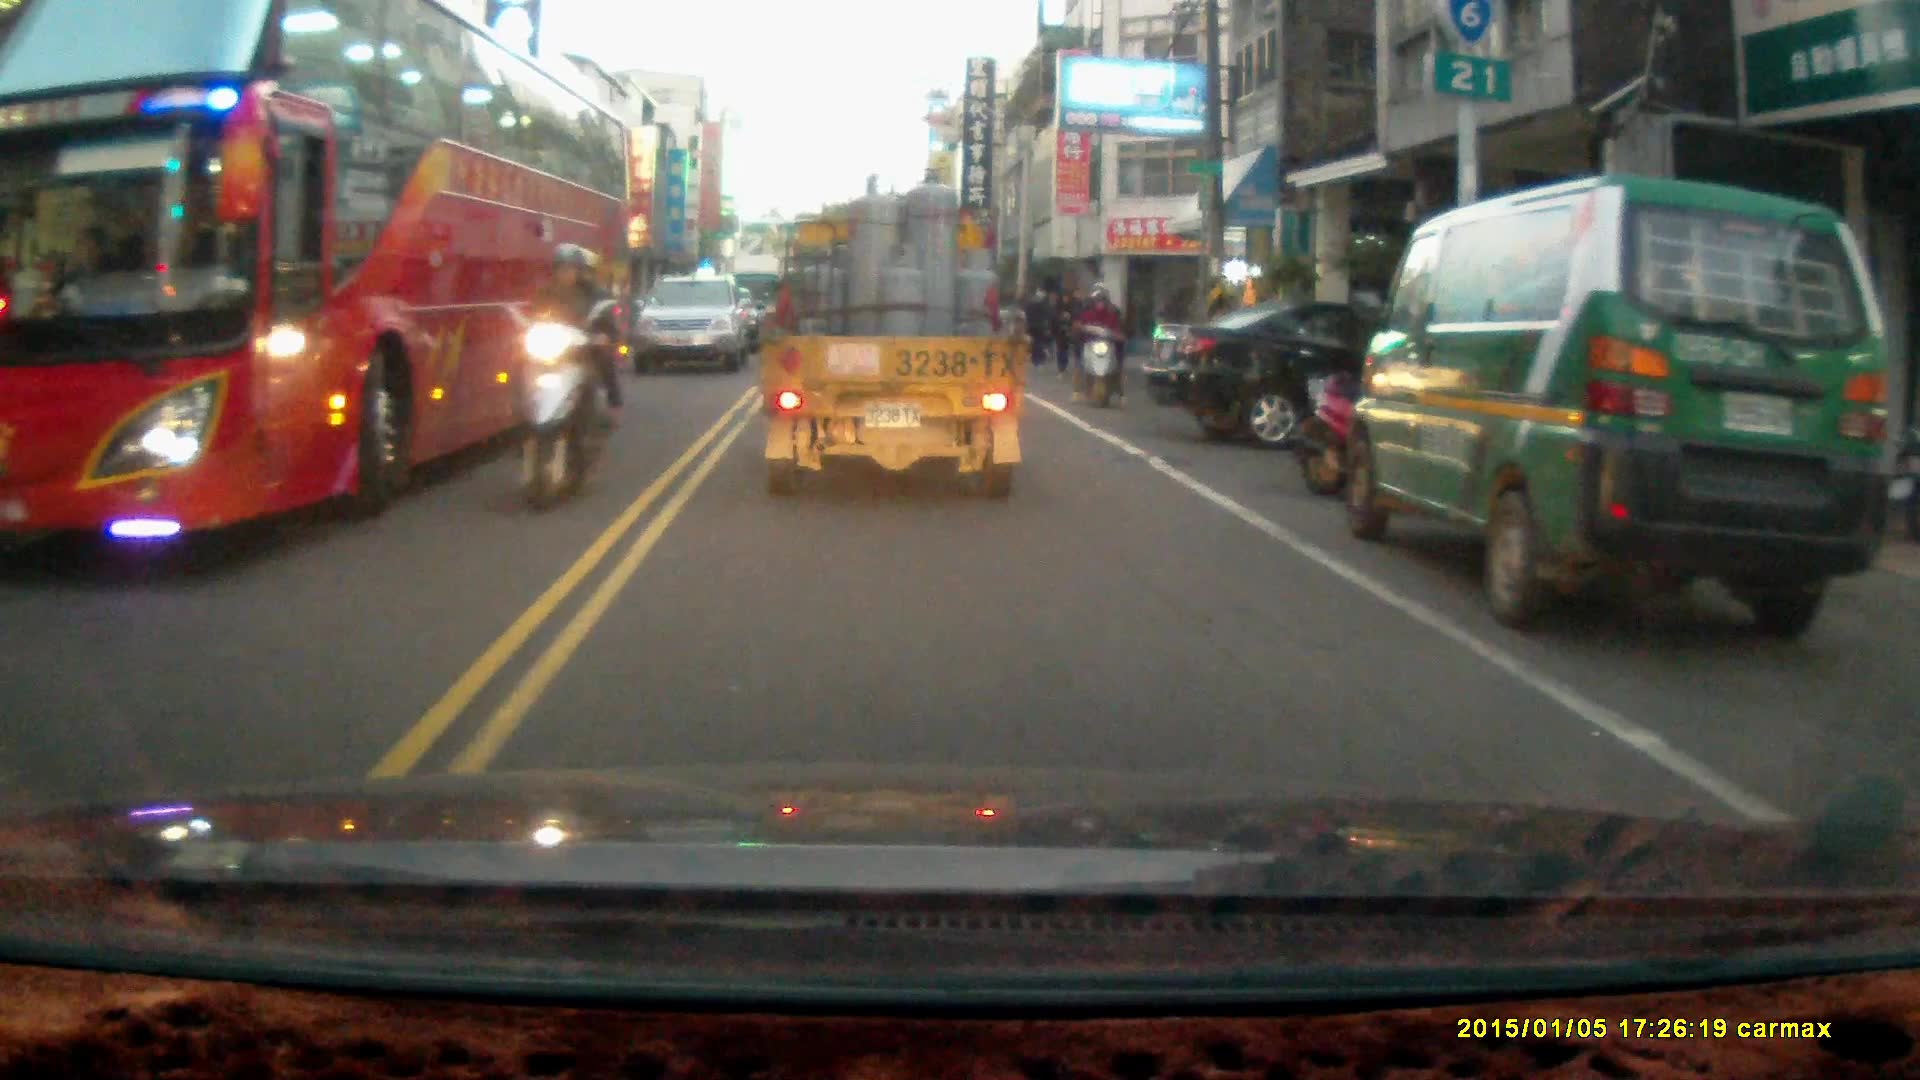pedestrian: (1051, 288, 1078, 378)
rider: (500, 242, 628, 514), (1072, 282, 1131, 412)
vehicle: (1, 7, 641, 545), (1350, 171, 1896, 638), (754, 168, 1030, 501), (1160, 295, 1372, 456), (632, 275, 753, 379)
